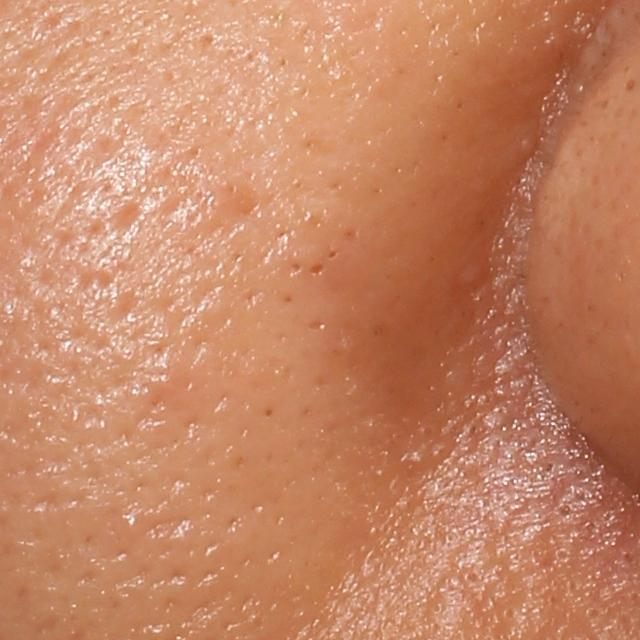atrophic_scar: (105, 199, 142, 239)
comedo: (550, 542, 577, 570), (461, 566, 487, 587), (498, 600, 521, 620)
